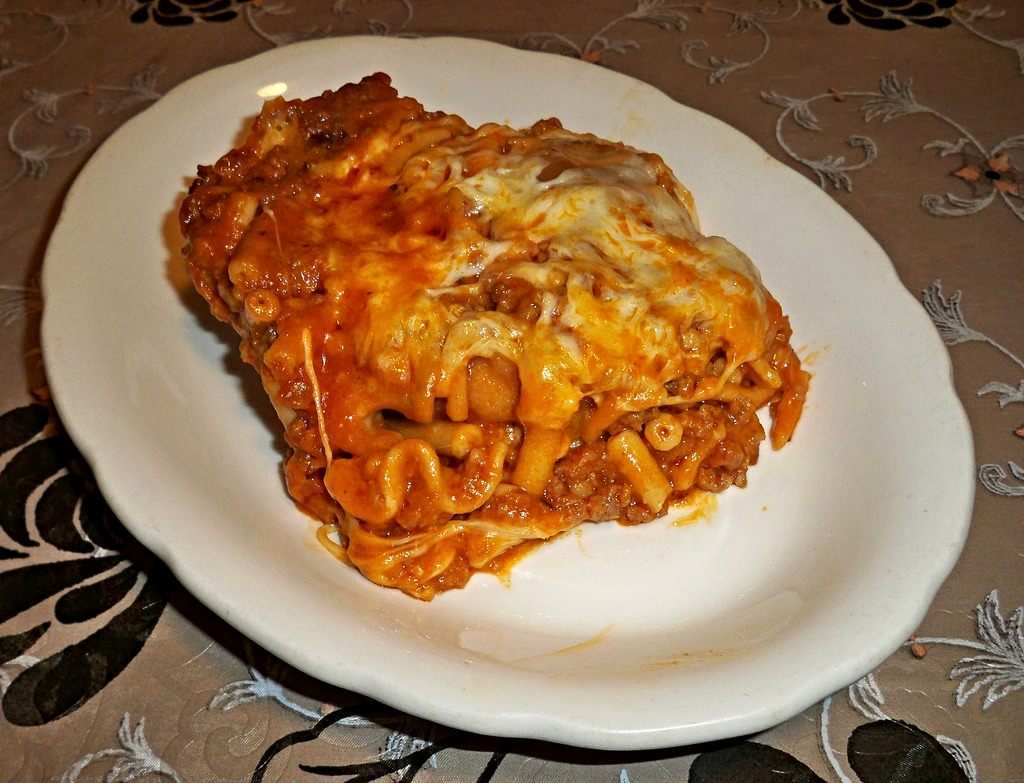plain spaghetti: (283, 139, 670, 450)
